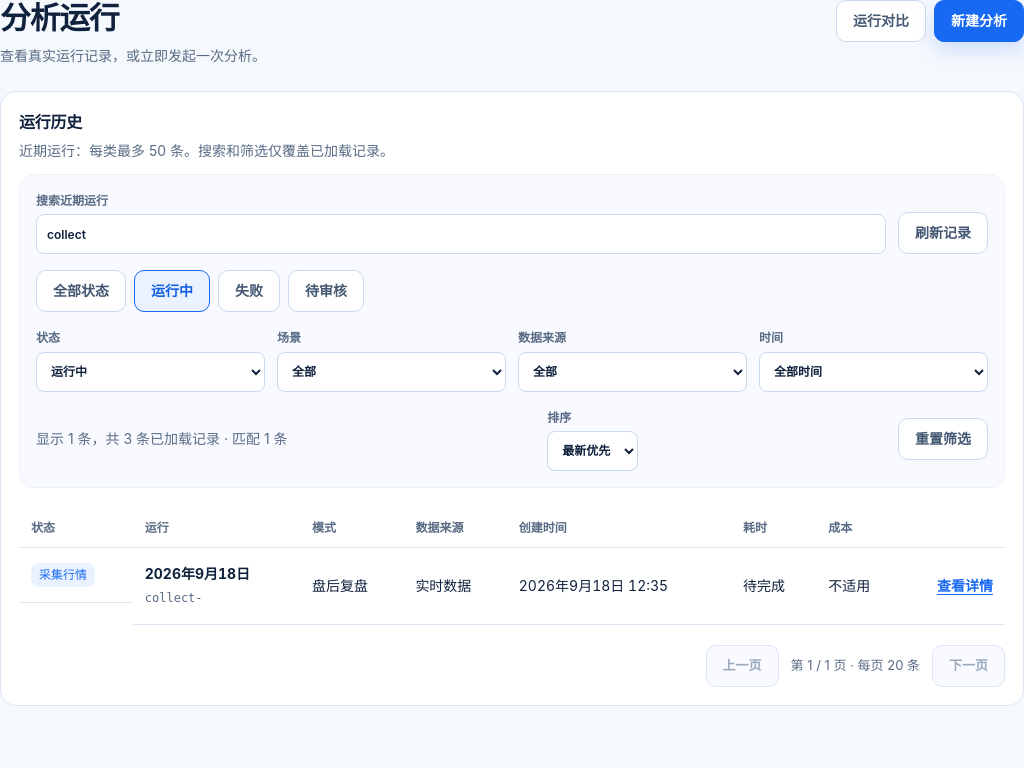
it: restores URL search and active collection filters, and resets them without reloading
Check: the text titled "collect-market" is shown, box [145,591,203,605]
Check: the search field labelled "搜索近期运行" holds "collect", box [36,214,886,254]
Click the button "重置筛选".
click(943, 439)  # box [898,418,988,460]
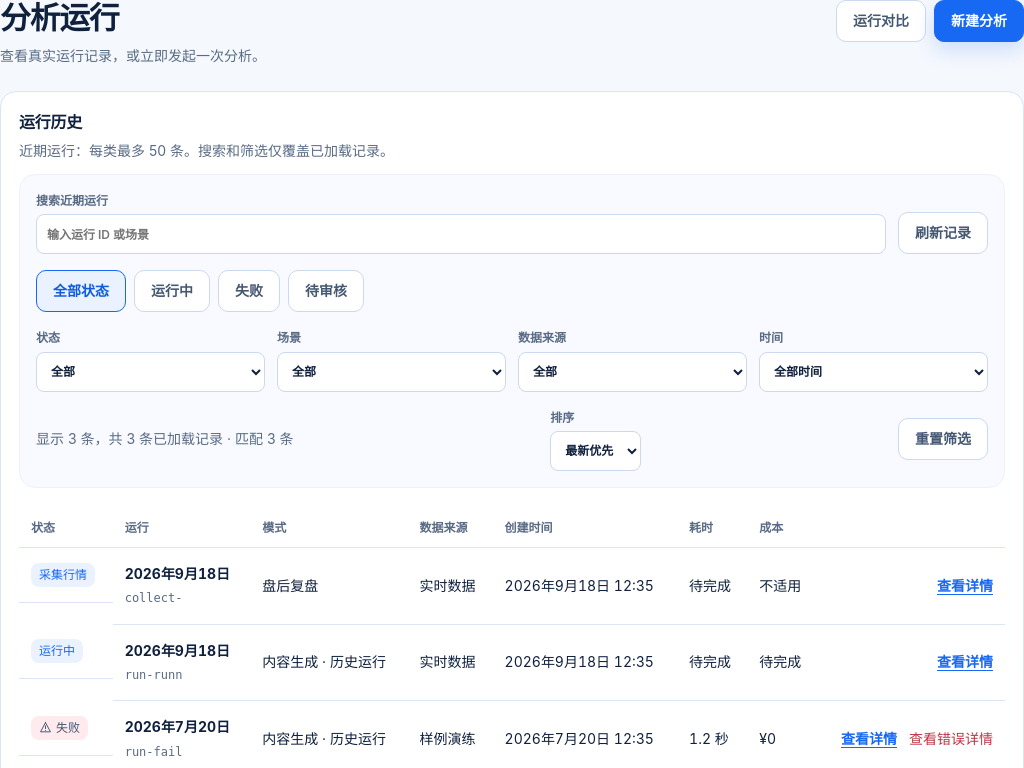
Check: the text titled "run-running" is shown, box [125,668,182,682]
